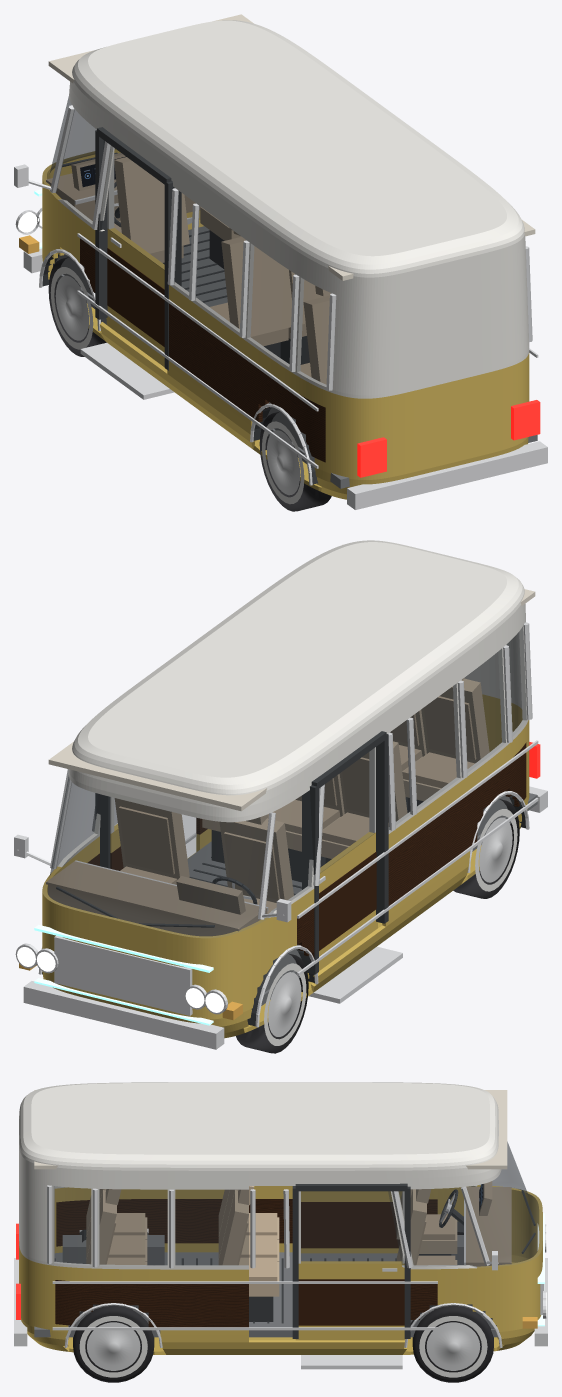
Rendered from van.glb.
The picture shows the model from 3 angles, top to bottom: view 1: azimuth 30°, elevation 25°; view 2: azimuth 150°, elevation 25°; view 3: azimuth 270°, elevation 25°; orthographic projection. The views are drawn at different scales.
Parts seen in each view (by area): view 1: body, trim, interior, body_glass, door_L2, tyre_BL, tyre_FL; view 2: body, body_glass, interior, trim, door_L2, tyre_FL, tyre_BL, door_R2; view 3: body, body_glass, interior, door_R2, trim, door_L2, tyre_FR, tyre_BR.
Part boxes in pixels (box(x1,y1,x2,y2)): body: box(42, 20, 529, 499); trim: box(14, 105, 547, 509); interior: box(46, 14, 537, 488); body_glass: box(42, 96, 330, 386); door_L2: box(106, 149, 164, 366); tyre_BL: box(259, 411, 331, 511); tyre_FL: box(48, 257, 106, 356); body: box(42, 540, 529, 1038); body_glass: box(42, 627, 526, 937); interior: box(46, 544, 537, 1005); trim: box(14, 622, 547, 1049); door_L2: box(307, 747, 377, 978); tyre_FL: box(236, 953, 308, 1053); tyre_BL: box(453, 799, 519, 898); door_R2: box(110, 797, 123, 870); body: box(19, 1082, 542, 1354); body_glass: box(54, 1142, 542, 1267); interior: box(34, 1090, 511, 1337); door_R2: box(295, 1191, 405, 1340); trim: box(14, 1183, 547, 1369); door_L2: box(301, 1191, 402, 1253); tyre_FR: box(412, 1305, 493, 1382); tyre_BR: box(73, 1305, 154, 1382).
Size of the model in its own units: 2.5 by 2.42 by 5.25.
21 materials, 2 textured.
